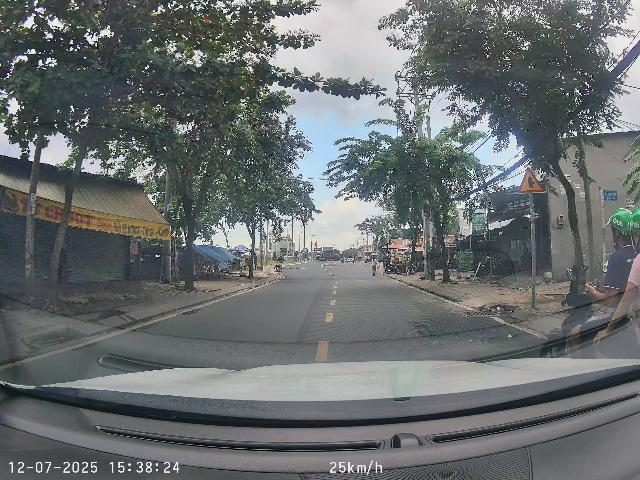207-giao-nhau-voi-duong-khong-uu-tien: (518, 167, 544, 193)
